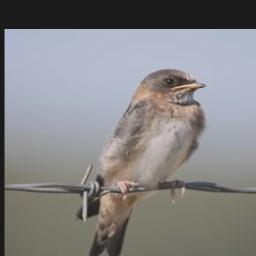Swallow: (74, 66, 208, 256)
